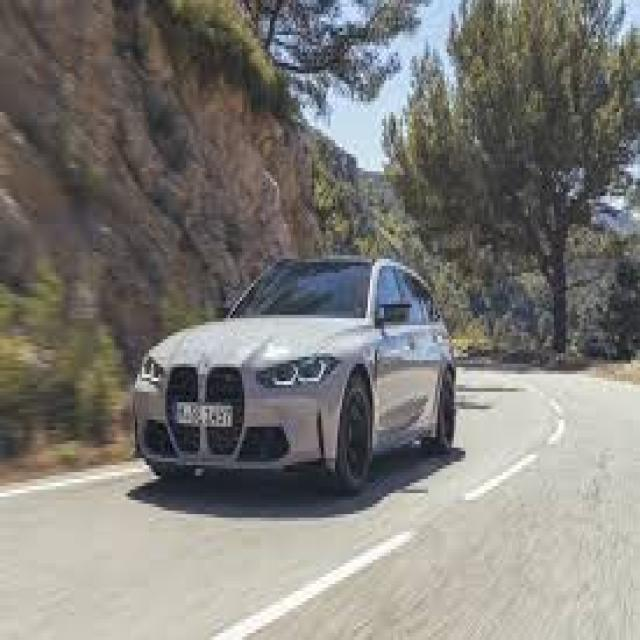SUV: (131, 253, 460, 493)
